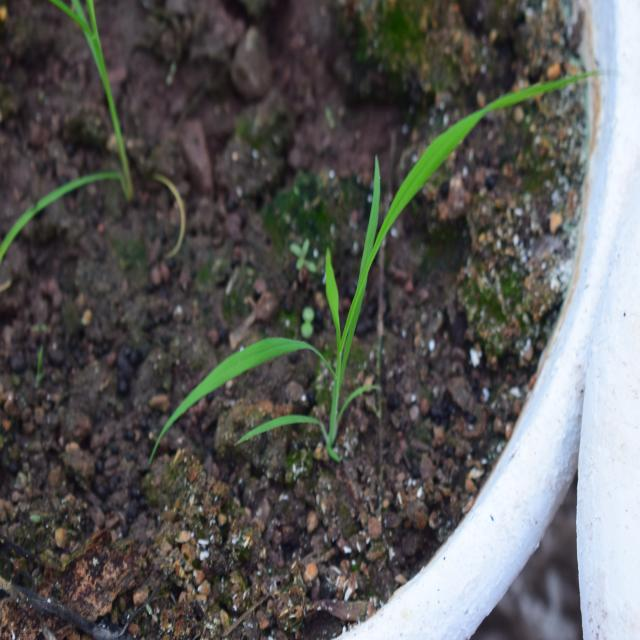barnyard_grass: (133, 77, 561, 450)
